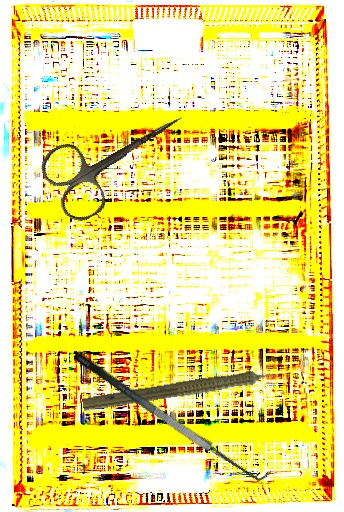Handpiece: (81, 361, 292, 420)
Iris Scissors: (33, 85, 203, 228)
Spatula Surgical: (71, 335, 274, 494)
